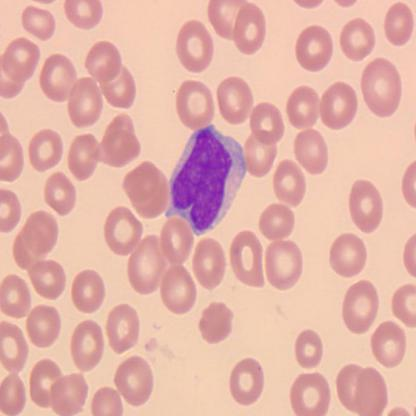Promyelocyte: (165, 126, 247, 236)
